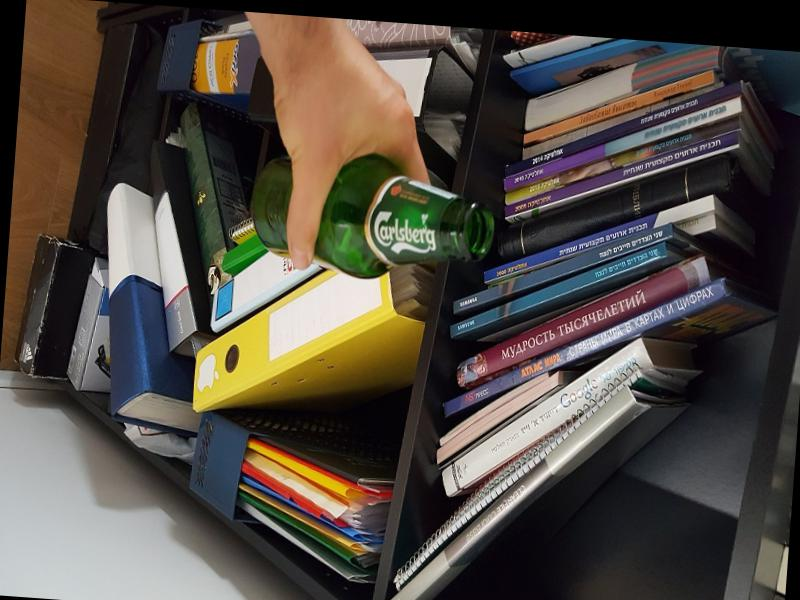Beer: (244, 149, 498, 285)
